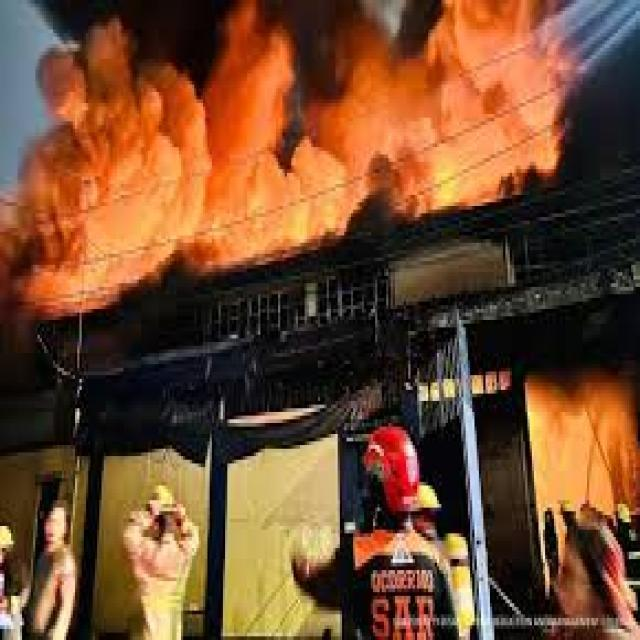Fire: (414, 150, 472, 226)
Smoke: (363, 8, 565, 212), (42, 54, 202, 286), (208, 18, 334, 240), (528, 385, 624, 516)
